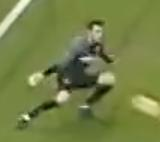goalkeeper: (6, 11, 128, 135)
